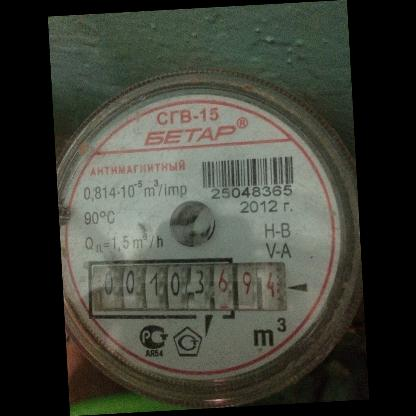digital_screen: (87, 256, 216, 318)
